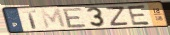3: (85, 6, 107, 28)
E: (127, 4, 153, 27), (62, 7, 89, 29)
M: (39, 8, 68, 30)
T: (21, 9, 38, 30)
Z: (106, 5, 130, 27)
